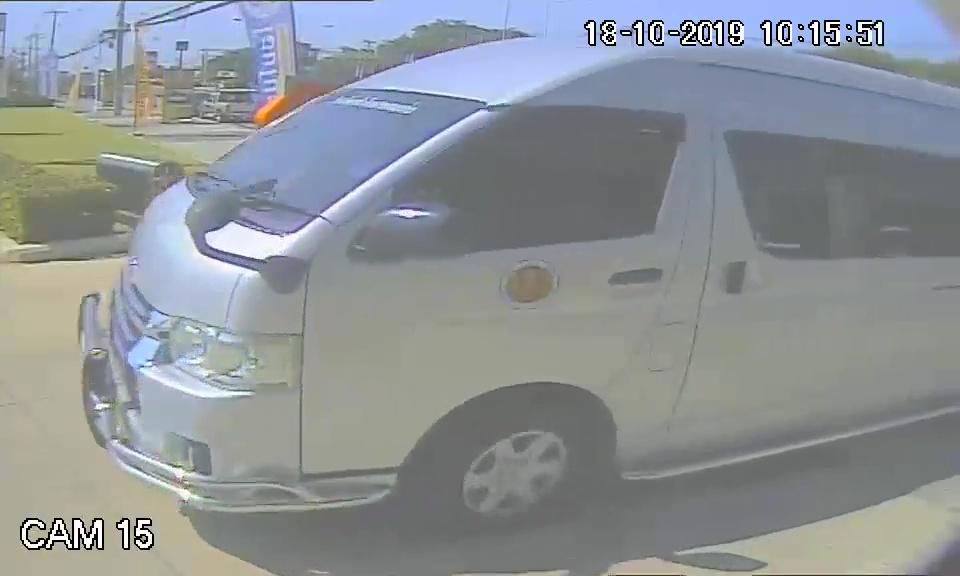van: (73, 32, 931, 528)
